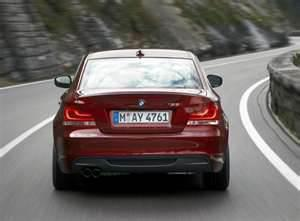Car: (44, 47, 251, 200)
